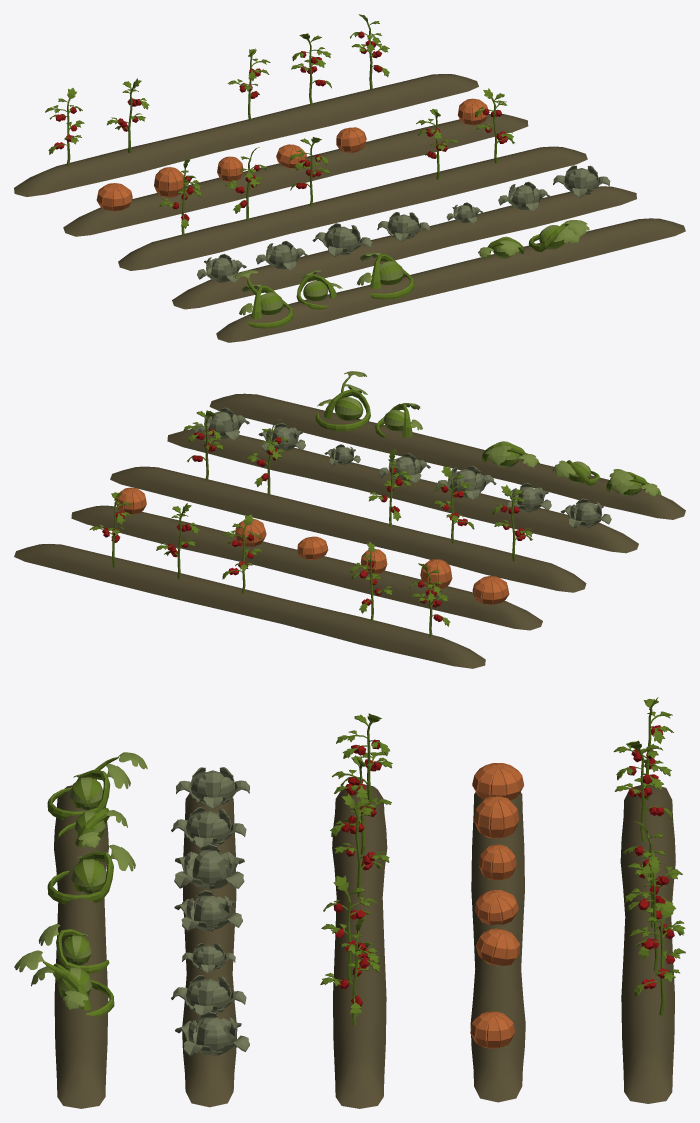
The model's file is Farm_Dirt_Level3.glb.
3 views of the same model, one above another, from view 1: azimuth 30°, elevation 25°; view 2: azimuth 150°, elevation 25°; view 3: azimuth 270°, elevation 25° (orthographic). The views are drawn at different scales.
Visible parts, largest first — view 1: Farm_Dirt_Level3; view 2: Farm_Dirt_Level3; view 3: Farm_Dirt_Level3.
Part boxes in pixels (x1,y1,x2,y2): Farm_Dirt_Level3: (14, 14, 685, 342); Farm_Dirt_Level3: (14, 371, 685, 668); Farm_Dirt_Level3: (14, 697, 685, 1108).
Bounding box in the file's own units: 1.79 × 0.3226 × 1.56.
Materials: 1 (1 with a texture image).
